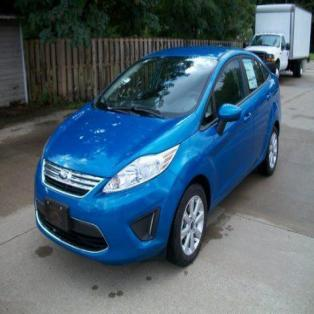Auto: (32, 46, 281, 266)
